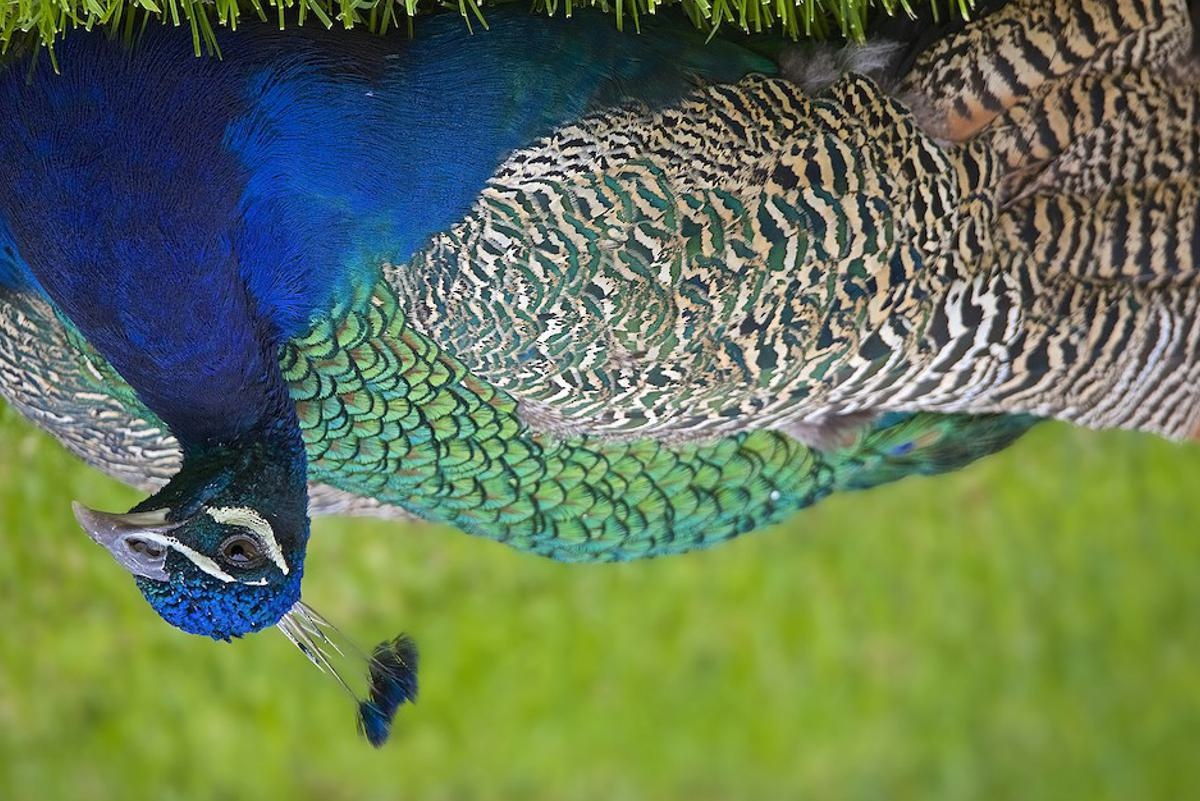peacock: (6, 1, 1124, 675)
